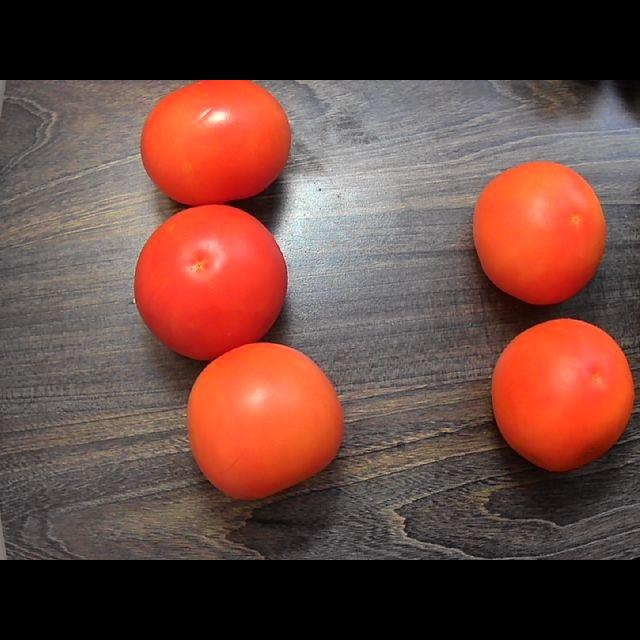tomate: (187, 343, 343, 498), (134, 205, 287, 360), (492, 320, 634, 471), (473, 161, 606, 304), (141, 80, 291, 205)
